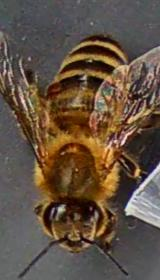varroa_mite: (40, 76, 64, 97)
